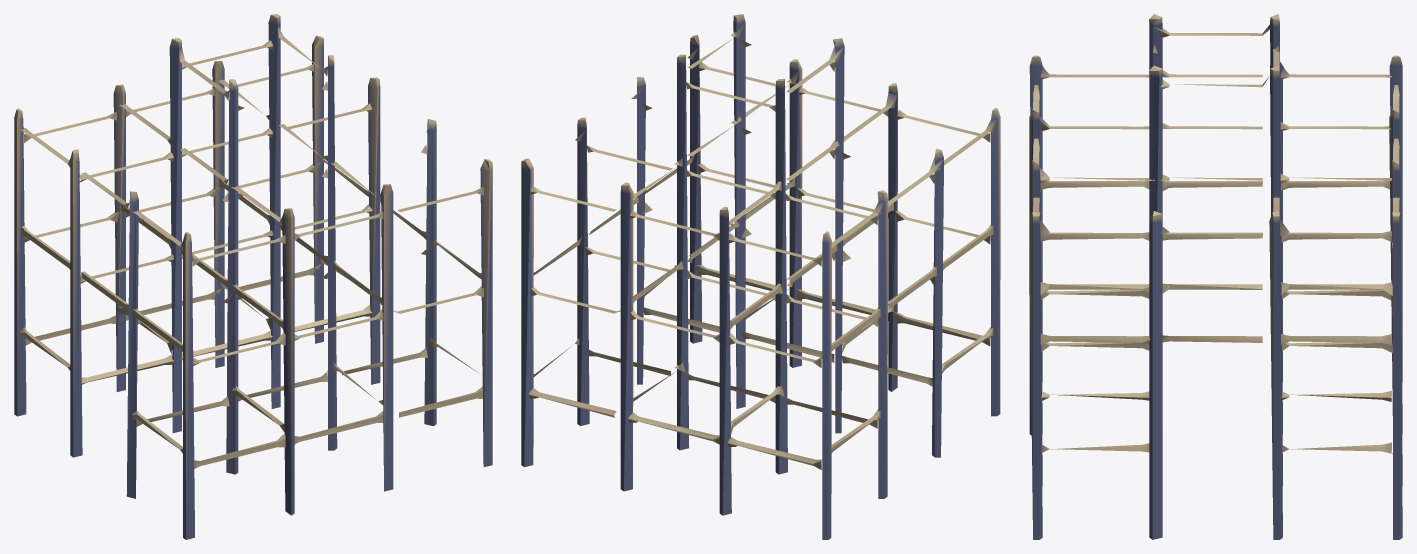
Rendered from play-climber.glb.
The picture shows the model from 3 angles, left to right: view 1: azimuth 30°, elevation 25°; view 2: azimuth 150°, elevation 25°; view 3: azimuth 270°, elevation 25°; orthographic projection. The views are drawn at different scales.
Parts seen in each view (by area): view 1: lod0; view 2: lod0; view 3: lod0.
Boxes of the visible parts, x1,y1,x2,y2 form: lod0: [14, 14, 492, 539]; lod0: [521, 14, 1000, 539]; lod0: [1029, 14, 1402, 539].
Size of what is drawn, in the model's own units: 3 by 3.66 by 2.96.
